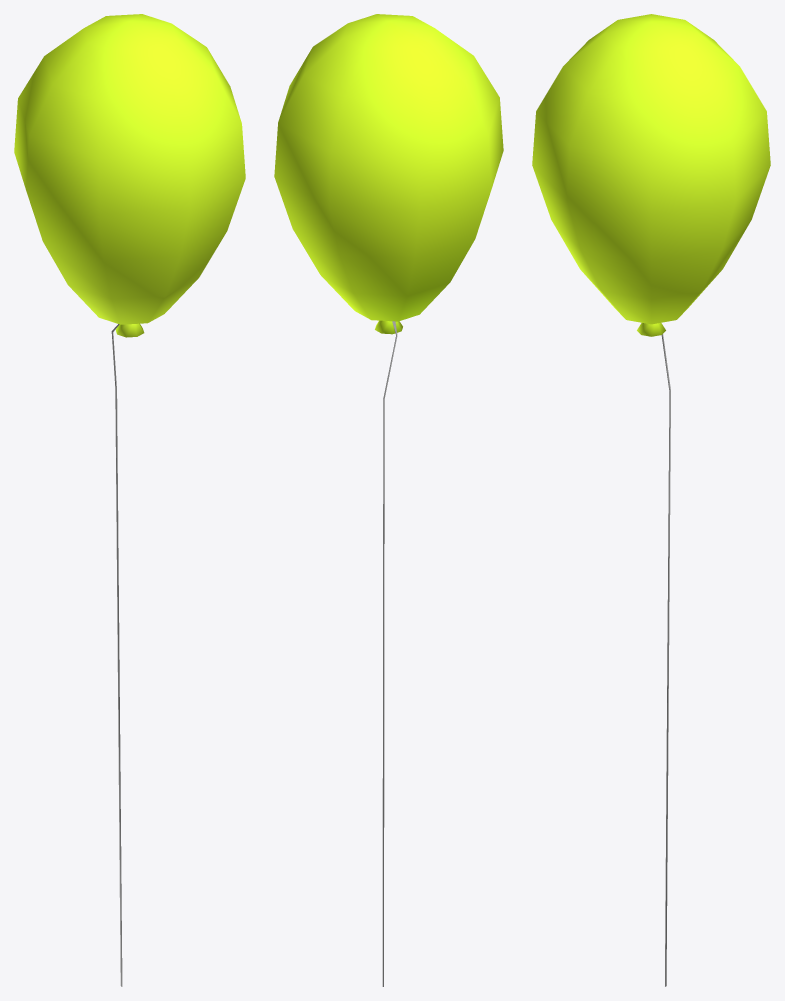
Rendered from BalloonNeonGreen.glb.
The picture shows the model from 3 angles, left to right: view 1: azimuth 30°, elevation 25°; view 2: azimuth 150°, elevation 25°; view 3: azimuth 270°, elevation 25°; orthographic projection.
Visible parts, largest first — view 1: BalloonNeonGreen; view 2: BalloonNeonGreen; view 3: BalloonNeonGreen.
Part boxes in pixels (x1,y1,x2,y2): BalloonNeonGreen: (14, 14, 245, 986); BalloonNeonGreen: (274, 14, 503, 986); BalloonNeonGreen: (532, 14, 770, 986).
Size of the model in its own units: 0.5007 by 2.23 by 0.5007.
1 material, 1 textured.
